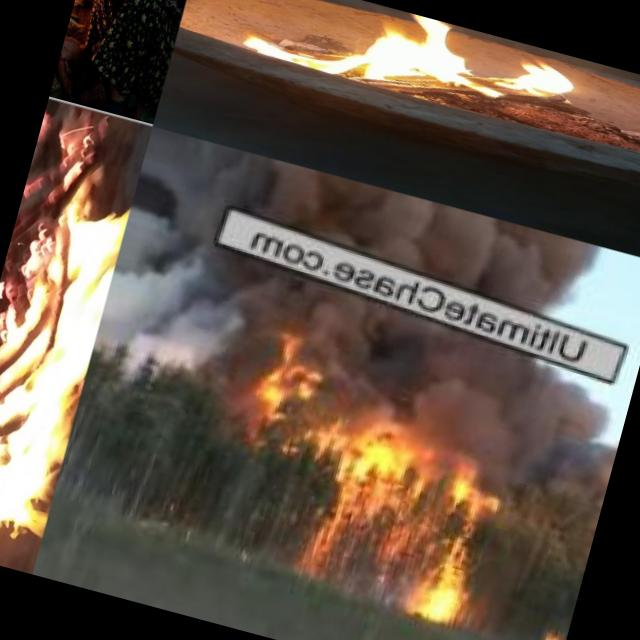fire: (266, 395, 527, 640), (0, 110, 152, 512), (242, 0, 588, 135), (241, 330, 361, 436), (513, 610, 570, 640)
smoke: (348, 318, 624, 472), (85, 235, 278, 416)
